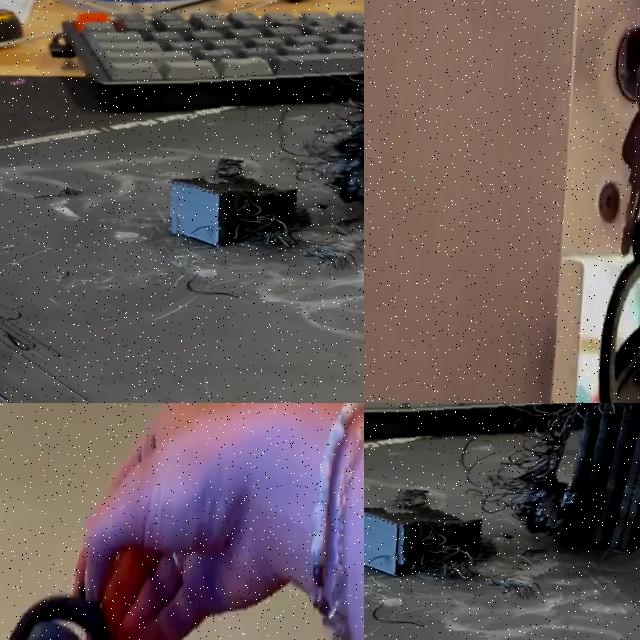spaghetti: (166, 16, 364, 267), (389, 403, 640, 581)
